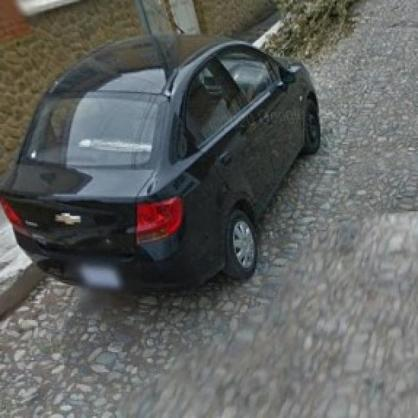car: (3, 34, 320, 294)
